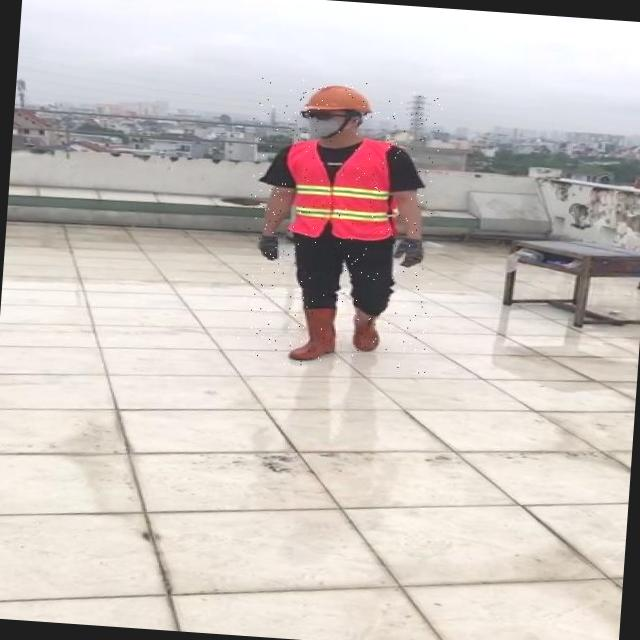boots: (288, 303, 342, 363), (348, 306, 385, 354)
helmet: (302, 82, 377, 116)
vest: (283, 138, 398, 244)
